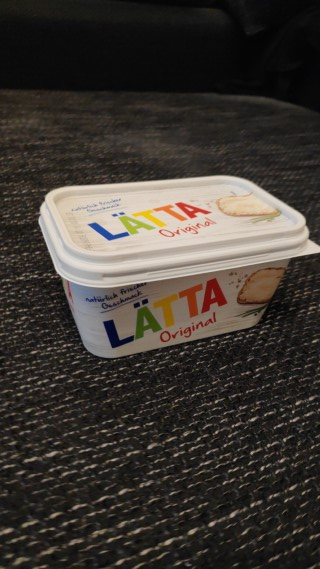laetta: (36, 172, 320, 358)
